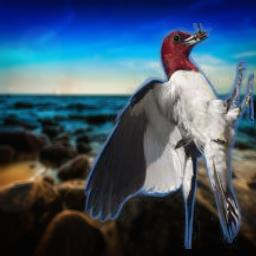Woodpecker: (84, 23, 254, 249)
